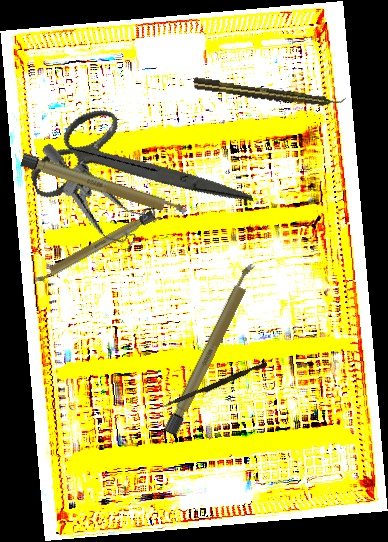Handpiece: (192, 75, 346, 112)
Iris Scissors: (16, 68, 255, 272)
Pusher: (162, 359, 268, 412)
Scalpel Handle: (162, 258, 261, 438), (20, 152, 188, 220), (30, 209, 157, 286)
Speculum: (19, 142, 168, 258)
